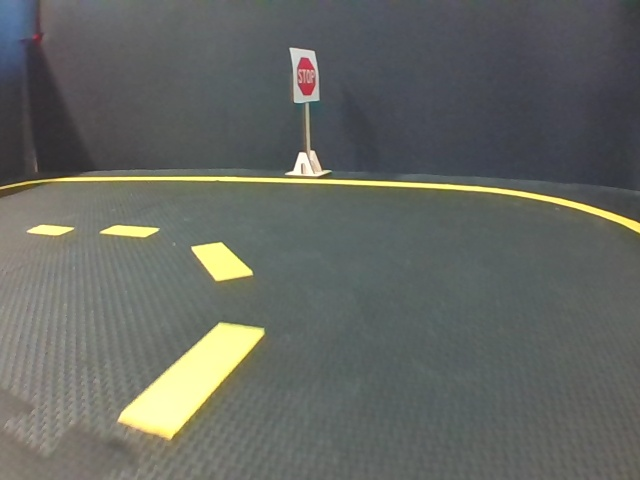stop: (291, 48, 319, 103)
